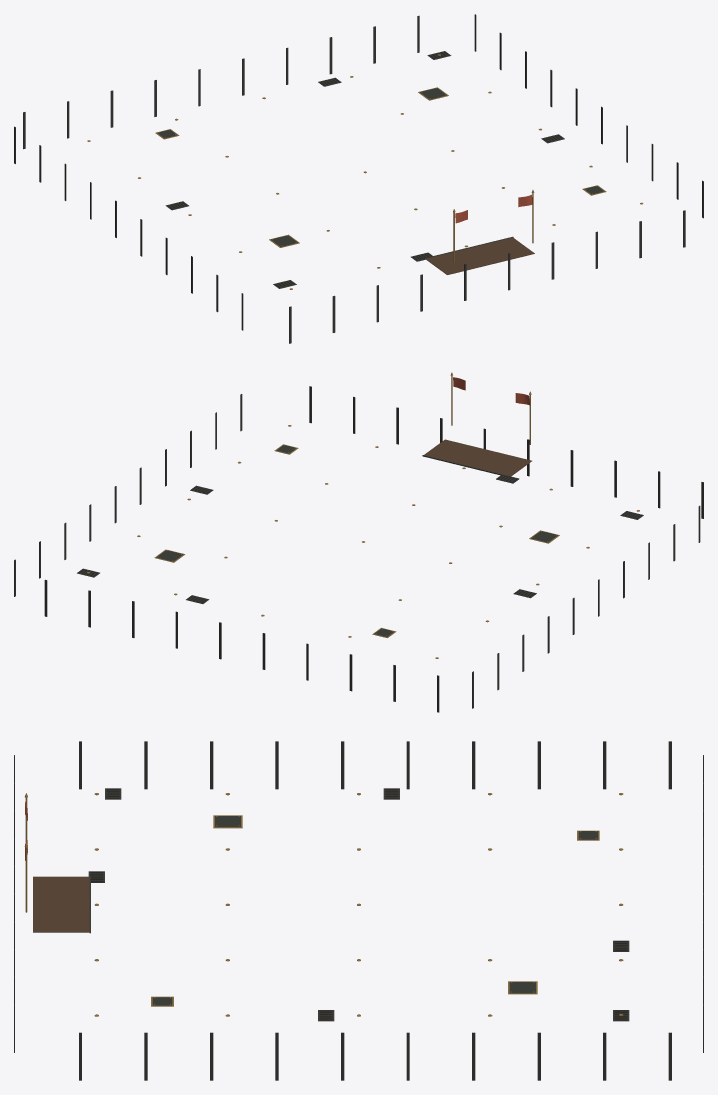
The model's file is opening_set.glb.
3 views of the same model, one above another, from view 1: azimuth 30°, elevation 25°; view 2: azimuth 150°, elevation 25°; view 3: azimuth 270°, elevation 25° (orthographic). The views are drawn at different scales.
Visible parts, largest first — view 1: opening_set; view 2: opening_set; view 3: opening_set.
Part boxes in pixels (x1,y1,x2,y2): opening_set: [14, 14, 703, 343]; opening_set: [14, 372, 703, 712]; opening_set: [14, 741, 703, 1080].
Bounding box in the file's own units: 42.12 × 7.85 × 42.12.
